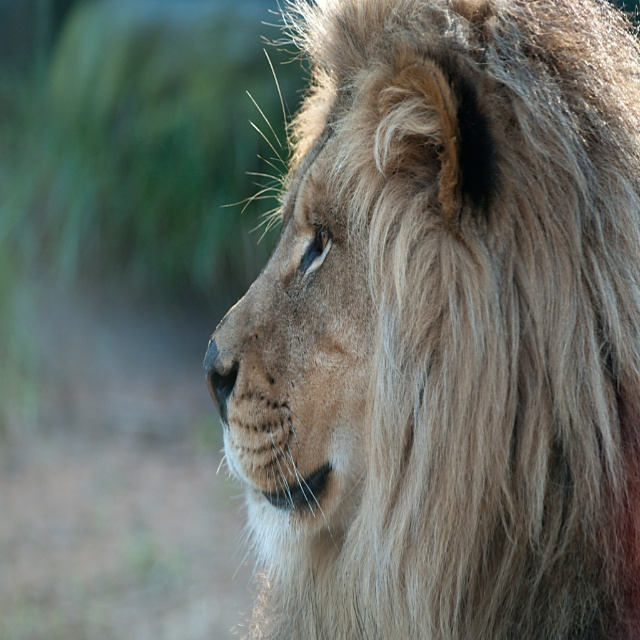Lion: (203, 0, 640, 640)
